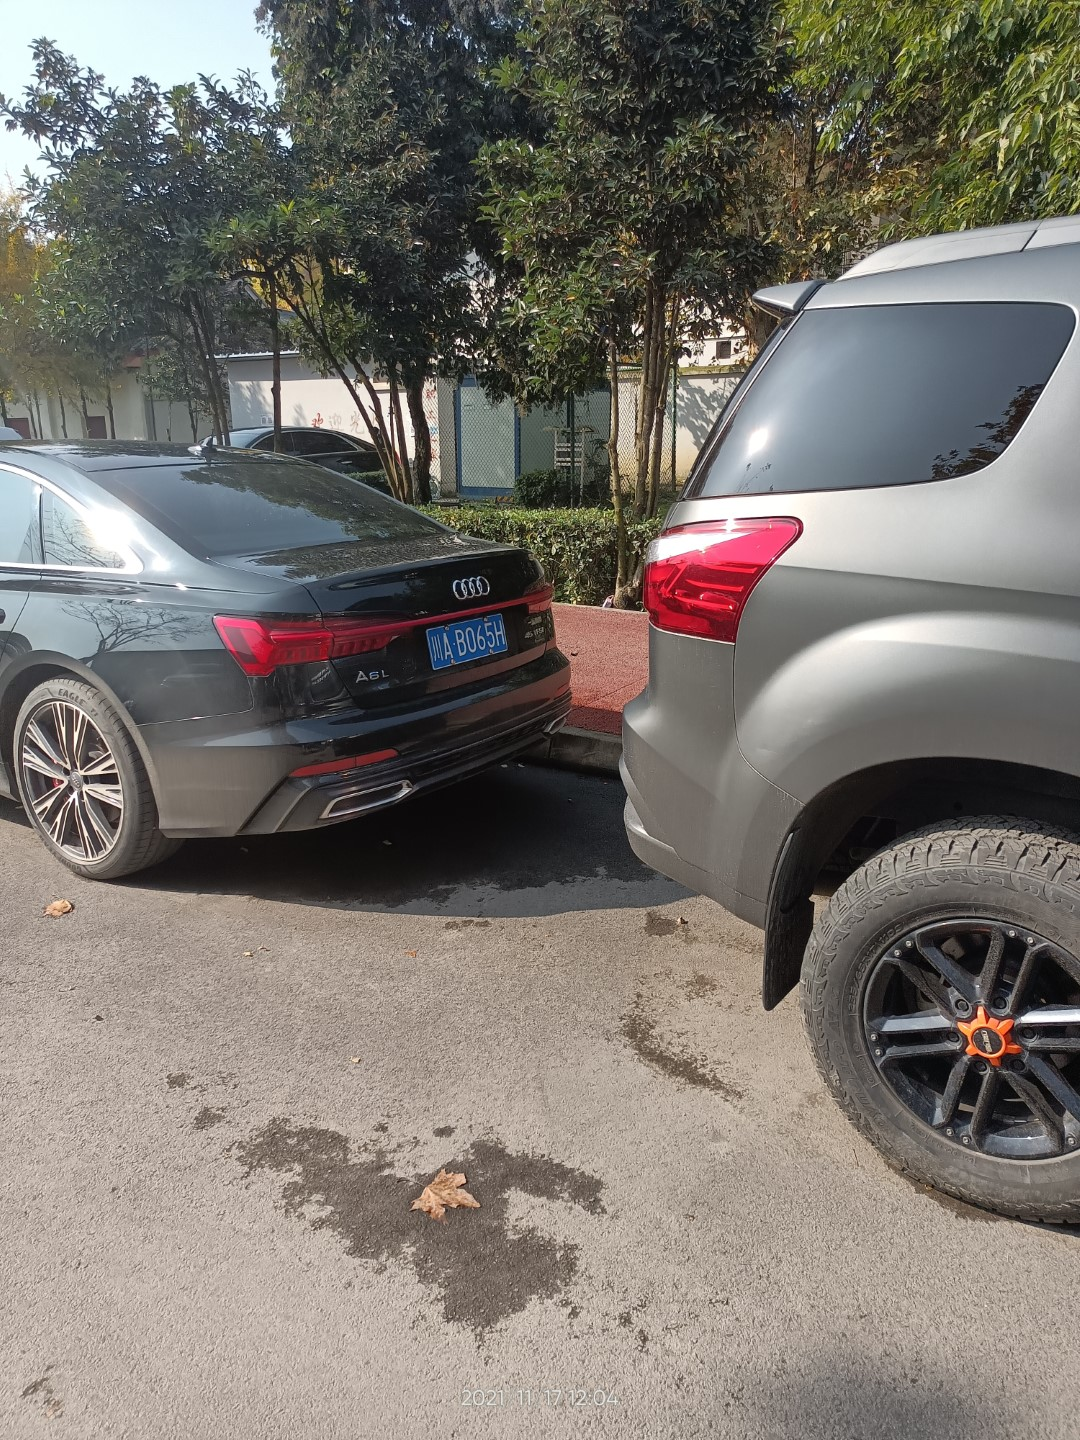plate: (425, 615, 509, 672)
